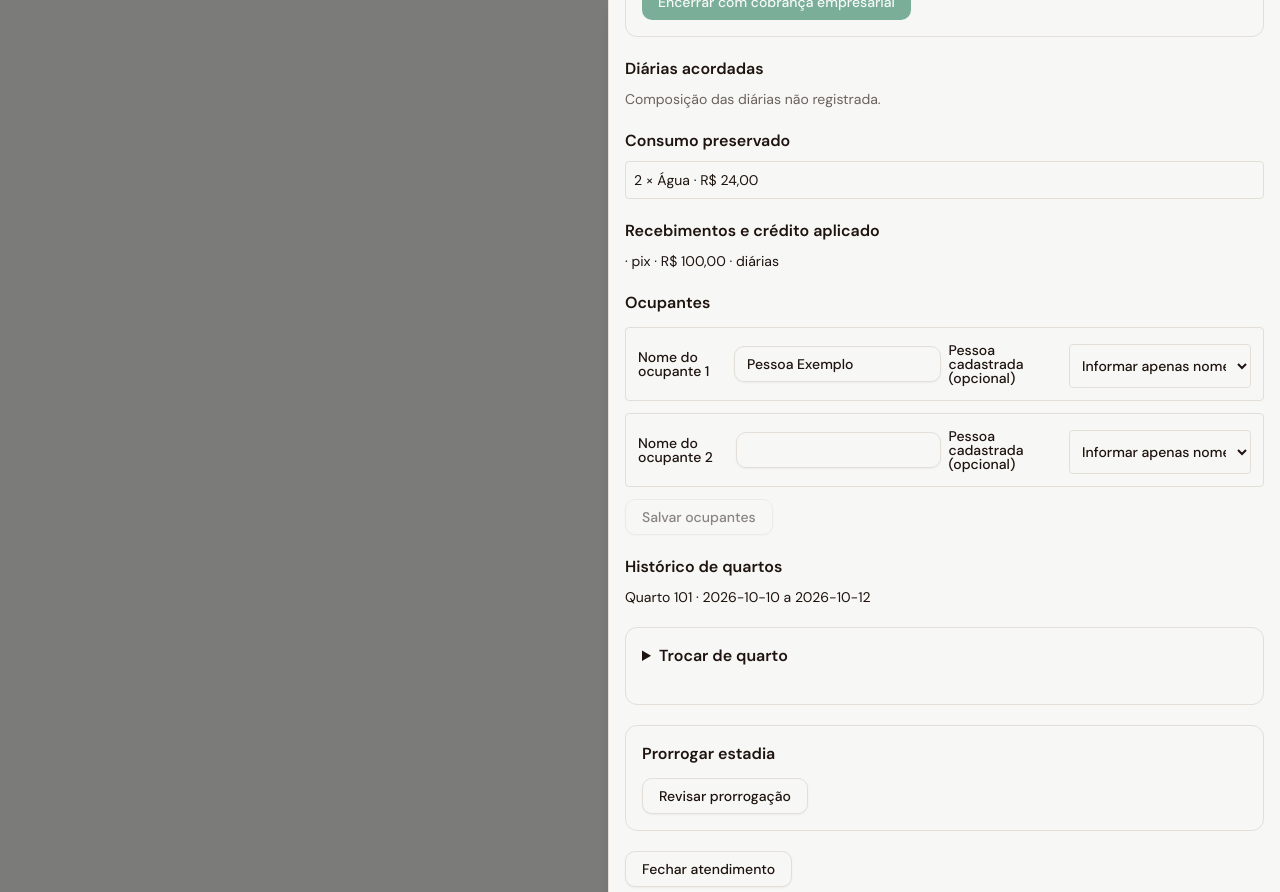
it: Extrato e saída da hospedagem › salva ocupantes sem fechar o atendimento
This screenshot has width=1280, height=892.
(page scrolled)
Step 1. Type "Acompanhante" into the field labelled "Nome do ocupante 2" → (838,450), box [736,432,940,468]
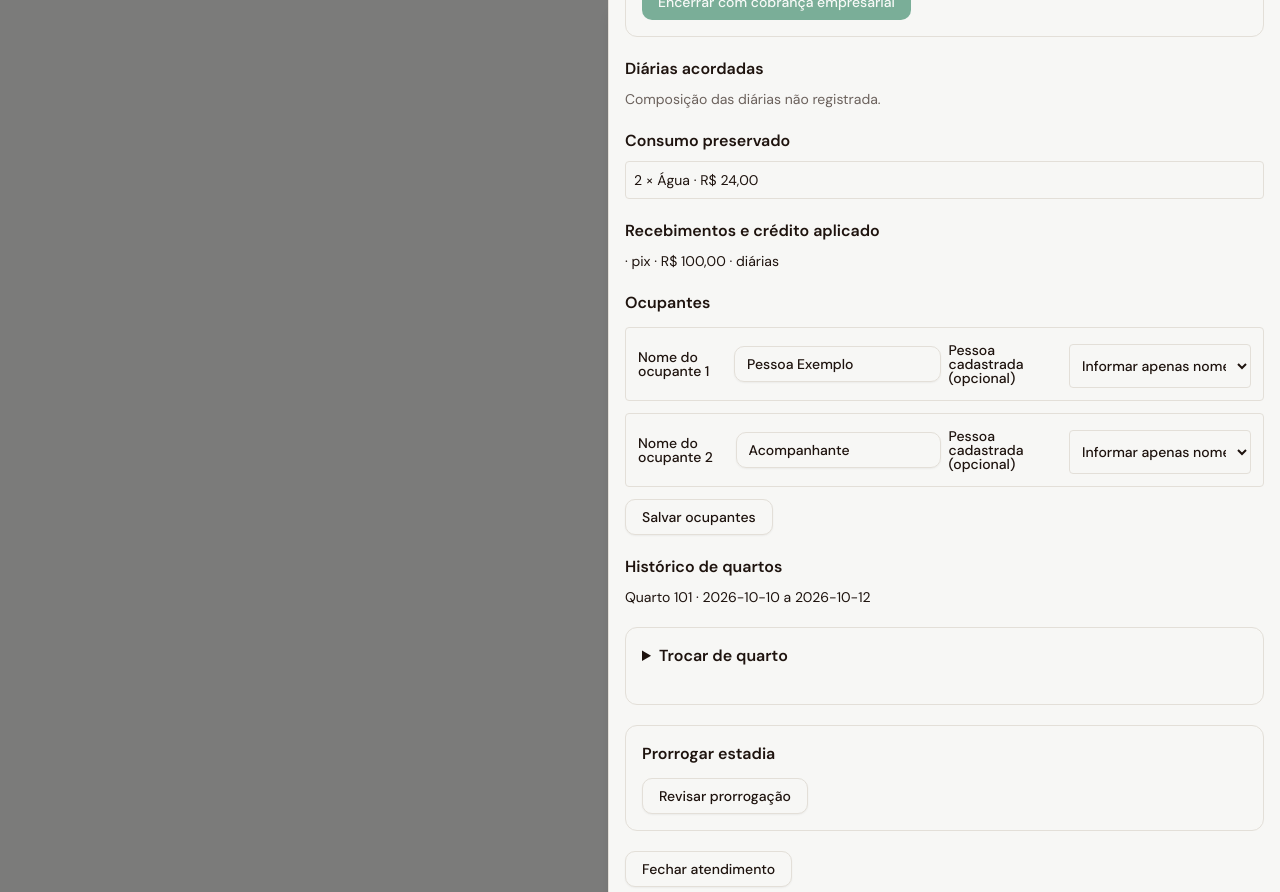
Step 2. Click the button "Salvar ocupantes" → (699,517), box [625,499,773,535]
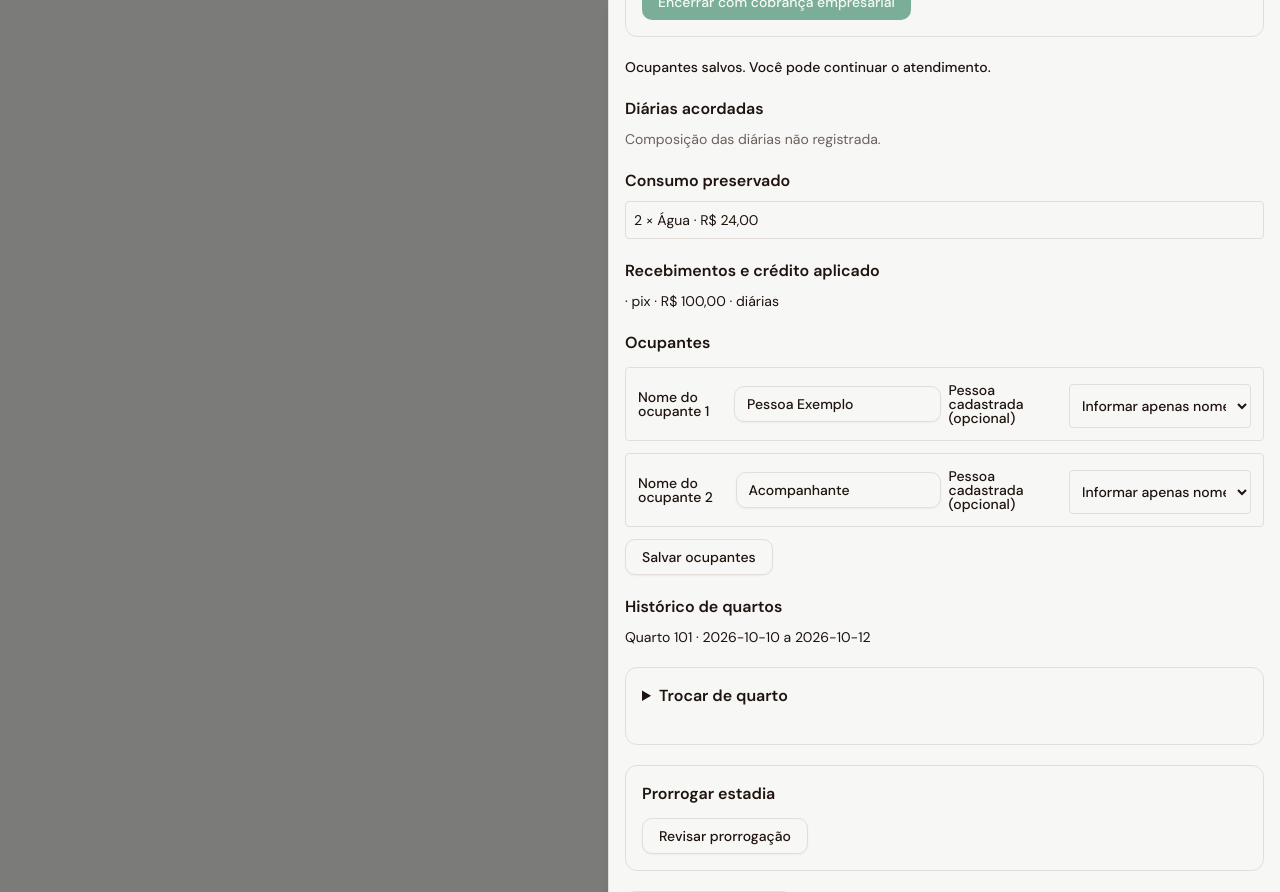
Expected: the text "Ocupantes salvos. Você pode continuar o atendimento." is shown, [625,58,991,76]
